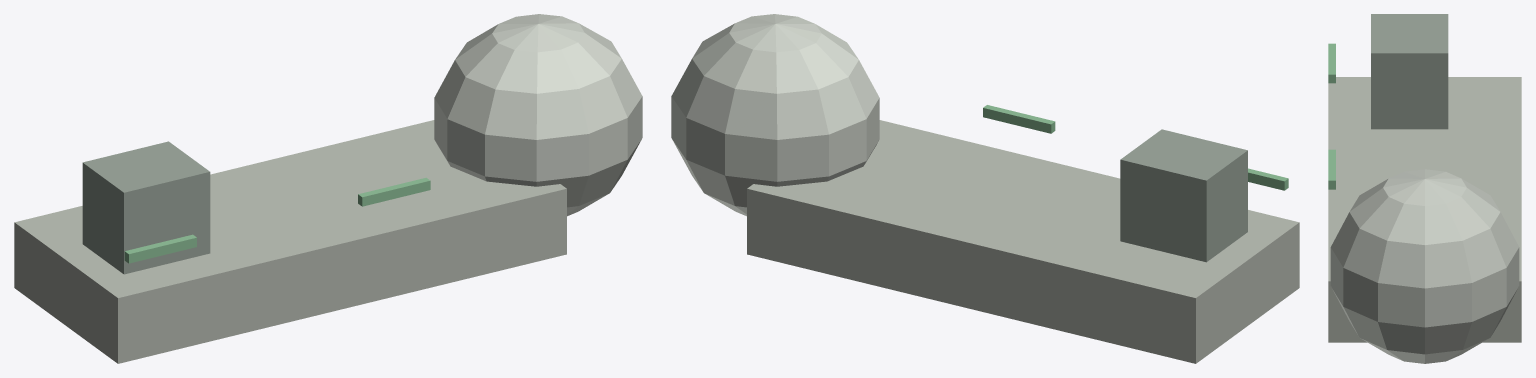
Rendered from estatua_caida.glb.
3 views of the same model, side by side, from view 1: azimuth 30°, elevation 25°; view 2: azimuth 150°, elevation 25°; view 3: azimuth 270°, elevation 25° (orthographic). The views are drawn at different scales.
Parts seen in each view (by area): view 1: estatua_caida; view 2: estatua_caida; view 3: estatua_caida.
Boxes of the visible parts, x1=… form: estatua_caida: x1=14, y1=14, x2=642, y2=363; estatua_caida: x1=671, y1=14, x2=1299, y2=363; estatua_caida: x1=1328, y1=14, x2=1521, y2=363.
Bounding box in the file's own units: 3.14 × 1 × 1.
